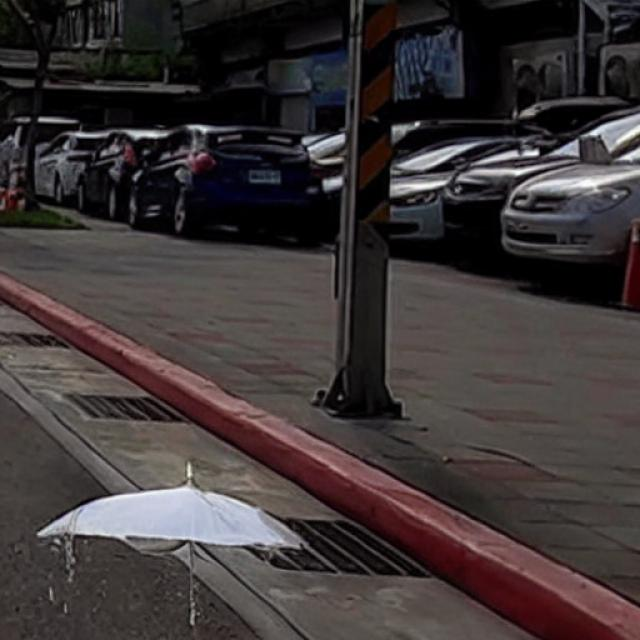puddle: (34, 484, 310, 558)
